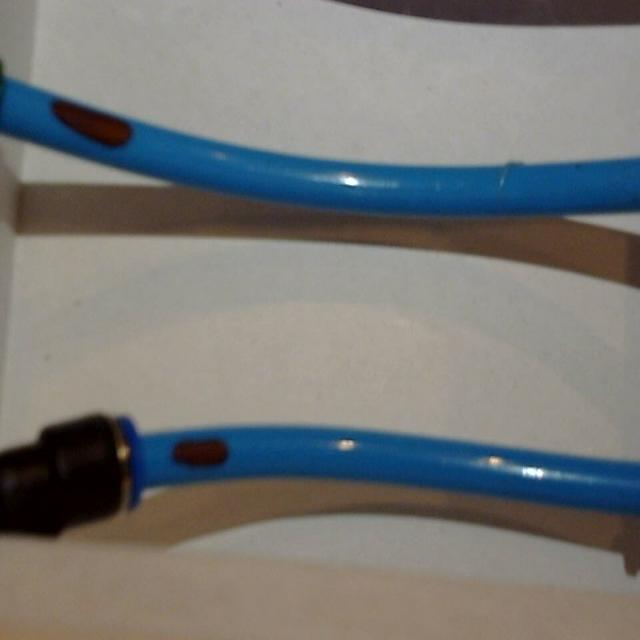hose_damage: (47, 91, 144, 164), (166, 435, 230, 476)
